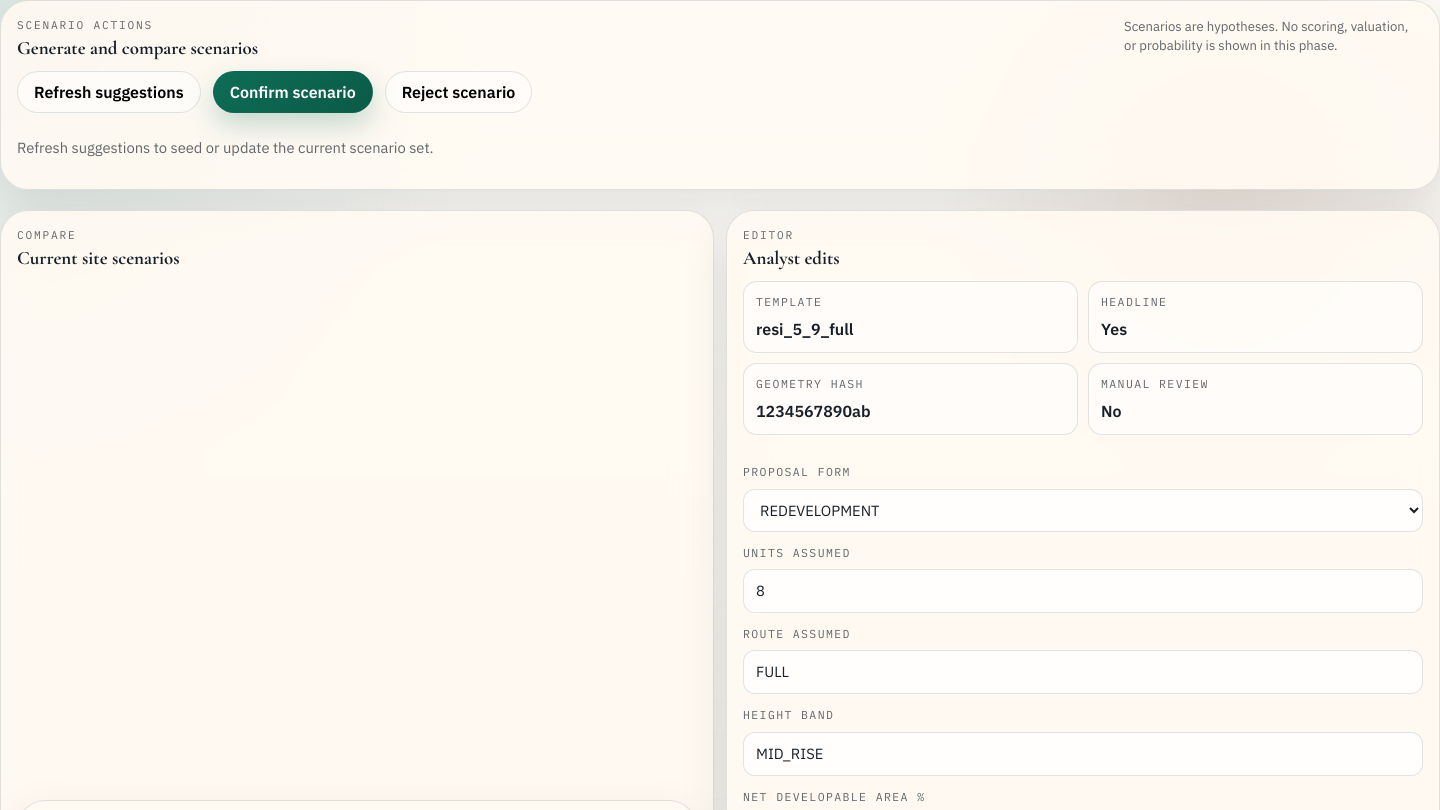
it: SiteScenarioEditor › handles an empty suggestion set without opening detail
The width and height of the screenshot is (1440, 810).
Click the button "Refresh suggestions": (109, 92) [17, 71, 201, 113]
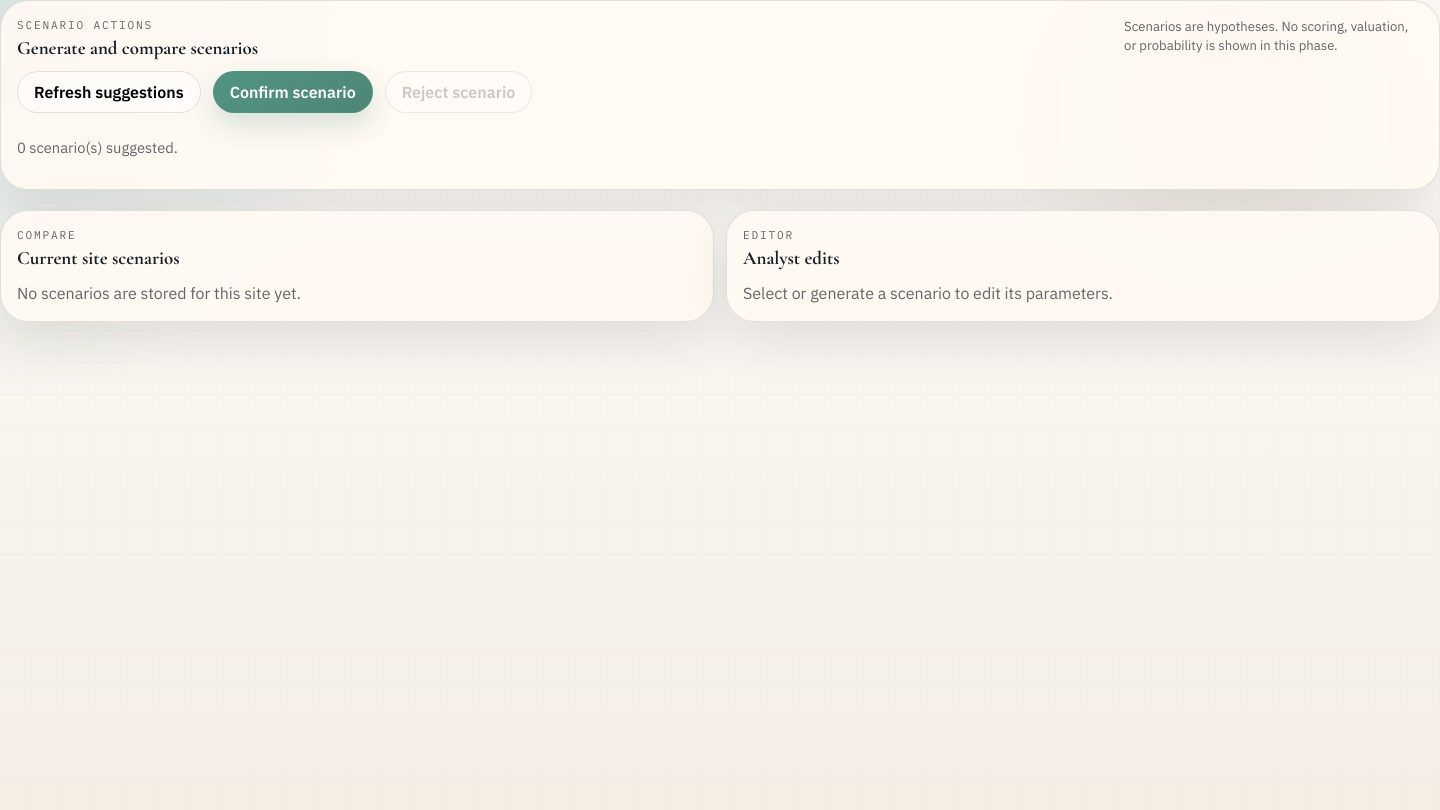
Expected: the text "0 scenario(s) suggested." is shown, [17, 138, 178, 157]
Expected: the text "No scenarios are stored for this site yet." is shown, [17, 283, 301, 303]
